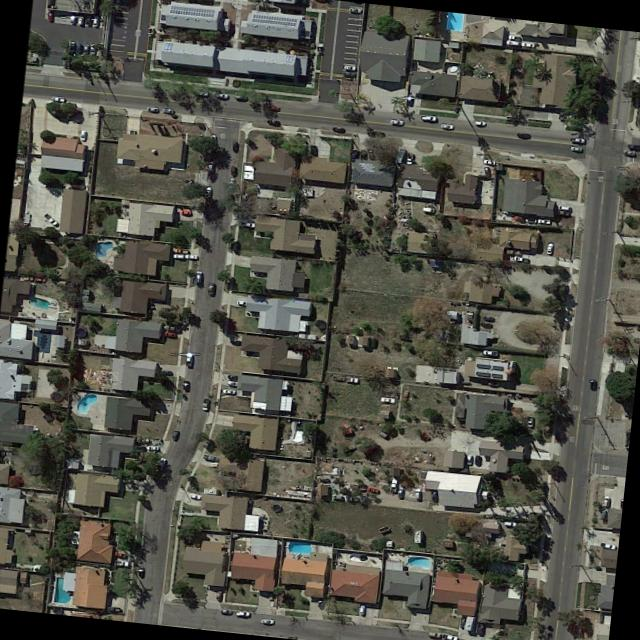large-vehicle: (389, 476, 398, 493)
small-vehicle: (154, 455, 166, 472), (44, 212, 58, 226), (516, 132, 532, 140), (600, 541, 615, 549), (483, 165, 492, 178), (310, 144, 318, 158), (346, 495, 360, 503), (380, 396, 395, 403), (204, 454, 219, 461), (546, 241, 554, 254), (345, 375, 358, 383), (367, 485, 380, 493), (266, 118, 279, 126), (377, 429, 388, 438), (348, 6, 362, 13), (422, 114, 436, 121), (521, 40, 535, 47), (158, 369, 172, 376), (602, 494, 610, 506), (207, 282, 215, 294), (342, 428, 354, 436), (405, 94, 413, 106), (481, 321, 493, 329), (421, 206, 434, 213), (407, 151, 414, 164), (267, 103, 280, 110), (431, 489, 438, 502), (371, 131, 384, 138), (18, 275, 33, 281), (483, 349, 498, 355), (50, 95, 65, 101), (190, 492, 201, 500), (368, 149, 376, 160), (474, 455, 482, 466), (571, 137, 585, 143), (428, 631, 440, 638), (106, 606, 120, 612), (195, 270, 202, 282), (227, 379, 239, 386), (164, 329, 176, 336), (179, 208, 191, 215), (162, 107, 174, 114), (34, 275, 46, 282), (556, 208, 570, 214), (114, 560, 128, 566), (510, 406, 522, 413), (332, 127, 346, 133), (626, 143, 640, 149), (622, 150, 635, 156), (557, 204, 570, 210), (222, 388, 235, 394), (343, 70, 356, 76), (506, 39, 519, 45), (508, 34, 521, 40), (185, 352, 192, 363), (228, 177, 235, 188), (202, 398, 209, 409), (75, 43, 82, 54), (47, 10, 54, 21), (590, 379, 597, 390), (466, 454, 473, 465), (600, 508, 607, 519), (513, 213, 524, 220), (504, 520, 516, 526), (446, 634, 458, 640), (483, 159, 495, 165), (261, 618, 273, 624), (344, 64, 356, 70), (216, 92, 228, 98), (196, 90, 208, 96), (482, 315, 494, 321), (114, 551, 126, 557), (514, 254, 524, 261), (414, 488, 421, 498), (80, 129, 87, 139), (360, 150, 367, 160), (527, 417, 534, 427), (398, 486, 404, 497), (220, 608, 231, 614), (147, 106, 158, 112), (138, 567, 144, 578), (183, 379, 189, 390), (70, 41, 76, 52), (83, 43, 89, 54), (85, 15, 91, 26), (93, 16, 99, 27), (146, 444, 159, 449), (236, 610, 249, 615), (390, 119, 403, 124), (234, 94, 247, 99), (216, 590, 222, 600), (570, 146, 582, 151), (185, 254, 197, 259), (245, 221, 255, 227), (441, 123, 453, 128), (206, 186, 212, 196), (230, 165, 236, 175), (236, 300, 248, 305), (330, 495, 342, 500), (351, 149, 357, 159), (208, 161, 214, 171), (232, 141, 238, 151), (90, 44, 96, 54), (526, 217, 536, 223), (538, 218, 550, 223), (474, 120, 485, 125), (173, 253, 184, 258), (228, 374, 239, 379), (172, 430, 178, 439), (359, 605, 365, 614), (77, 16, 83, 25), (70, 15, 76, 23)
